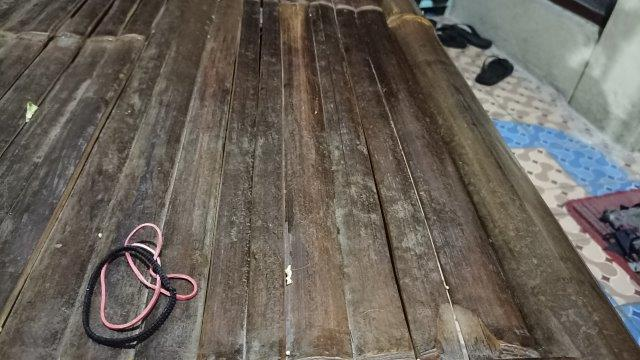karet: (82, 222, 198, 346)
